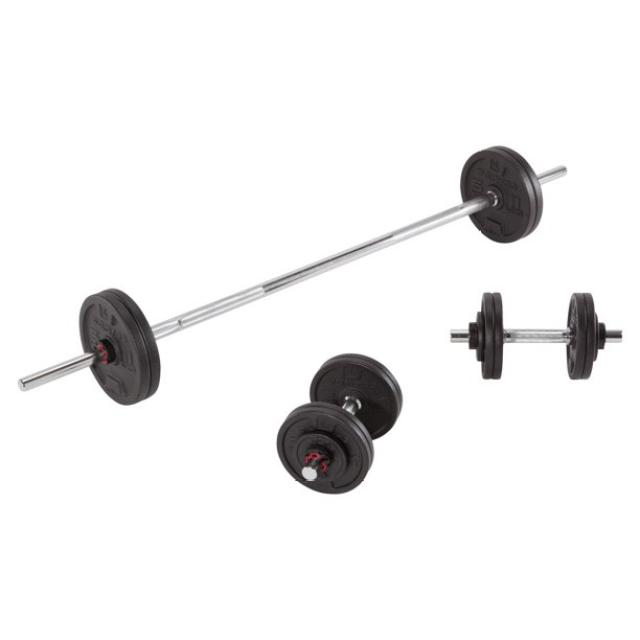barbell_plate_side: (17, 143, 155, 405), (430, 143, 568, 405), (276, 351, 308, 493), (371, 351, 403, 493), (450, 291, 493, 380), (579, 291, 622, 380)
